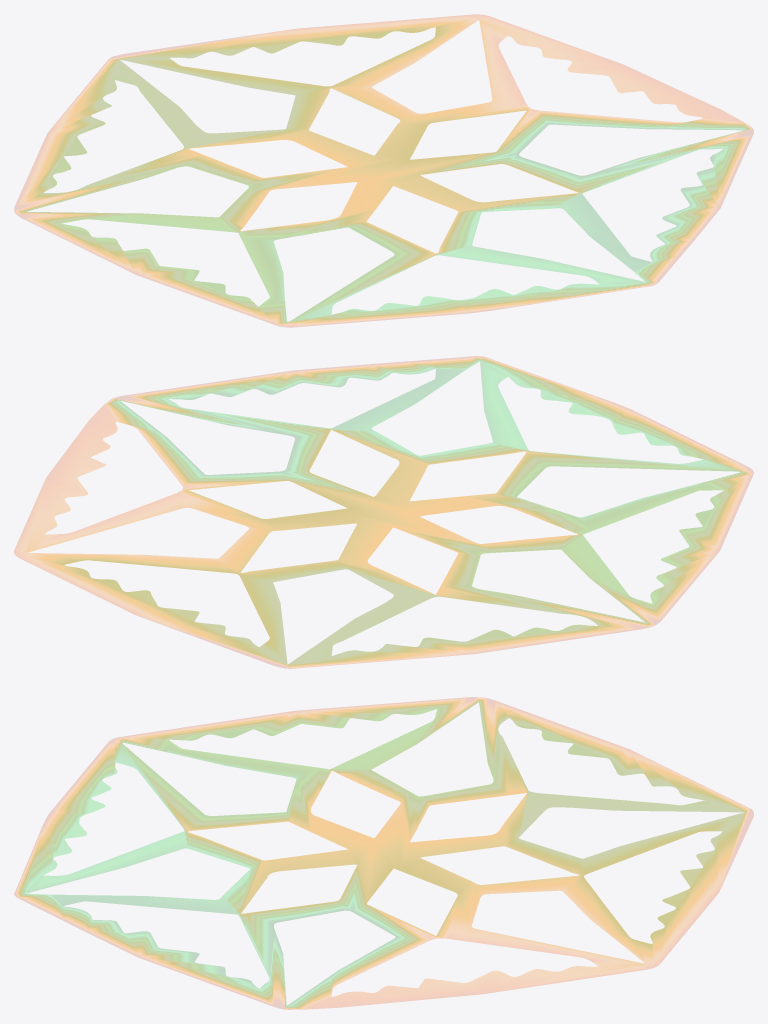
Rendered from Weapon_Slot.glb.
The picture shows the model from 3 angles, top to bottom: view 1: azimuth 30°, elevation 25°; view 2: azimuth 150°, elevation 25°; view 3: azimuth 270°, elevation 25°; orthographic projection.
Visible parts, largest first — view 1: Object_5.001; view 2: Object_5.001; view 3: Object_5.001.
Boxes of the visible parts, left/top/right/bottom form: Object_5.001: left=14, top=14, right=753, bottom=327; Object_5.001: left=14, top=356, right=753, bottom=668; Object_5.001: left=14, top=697, right=753, bottom=1009.
Size of the model in its own units: 0.8598 by 0 by 0.8597.
1 material, 1 textured.
